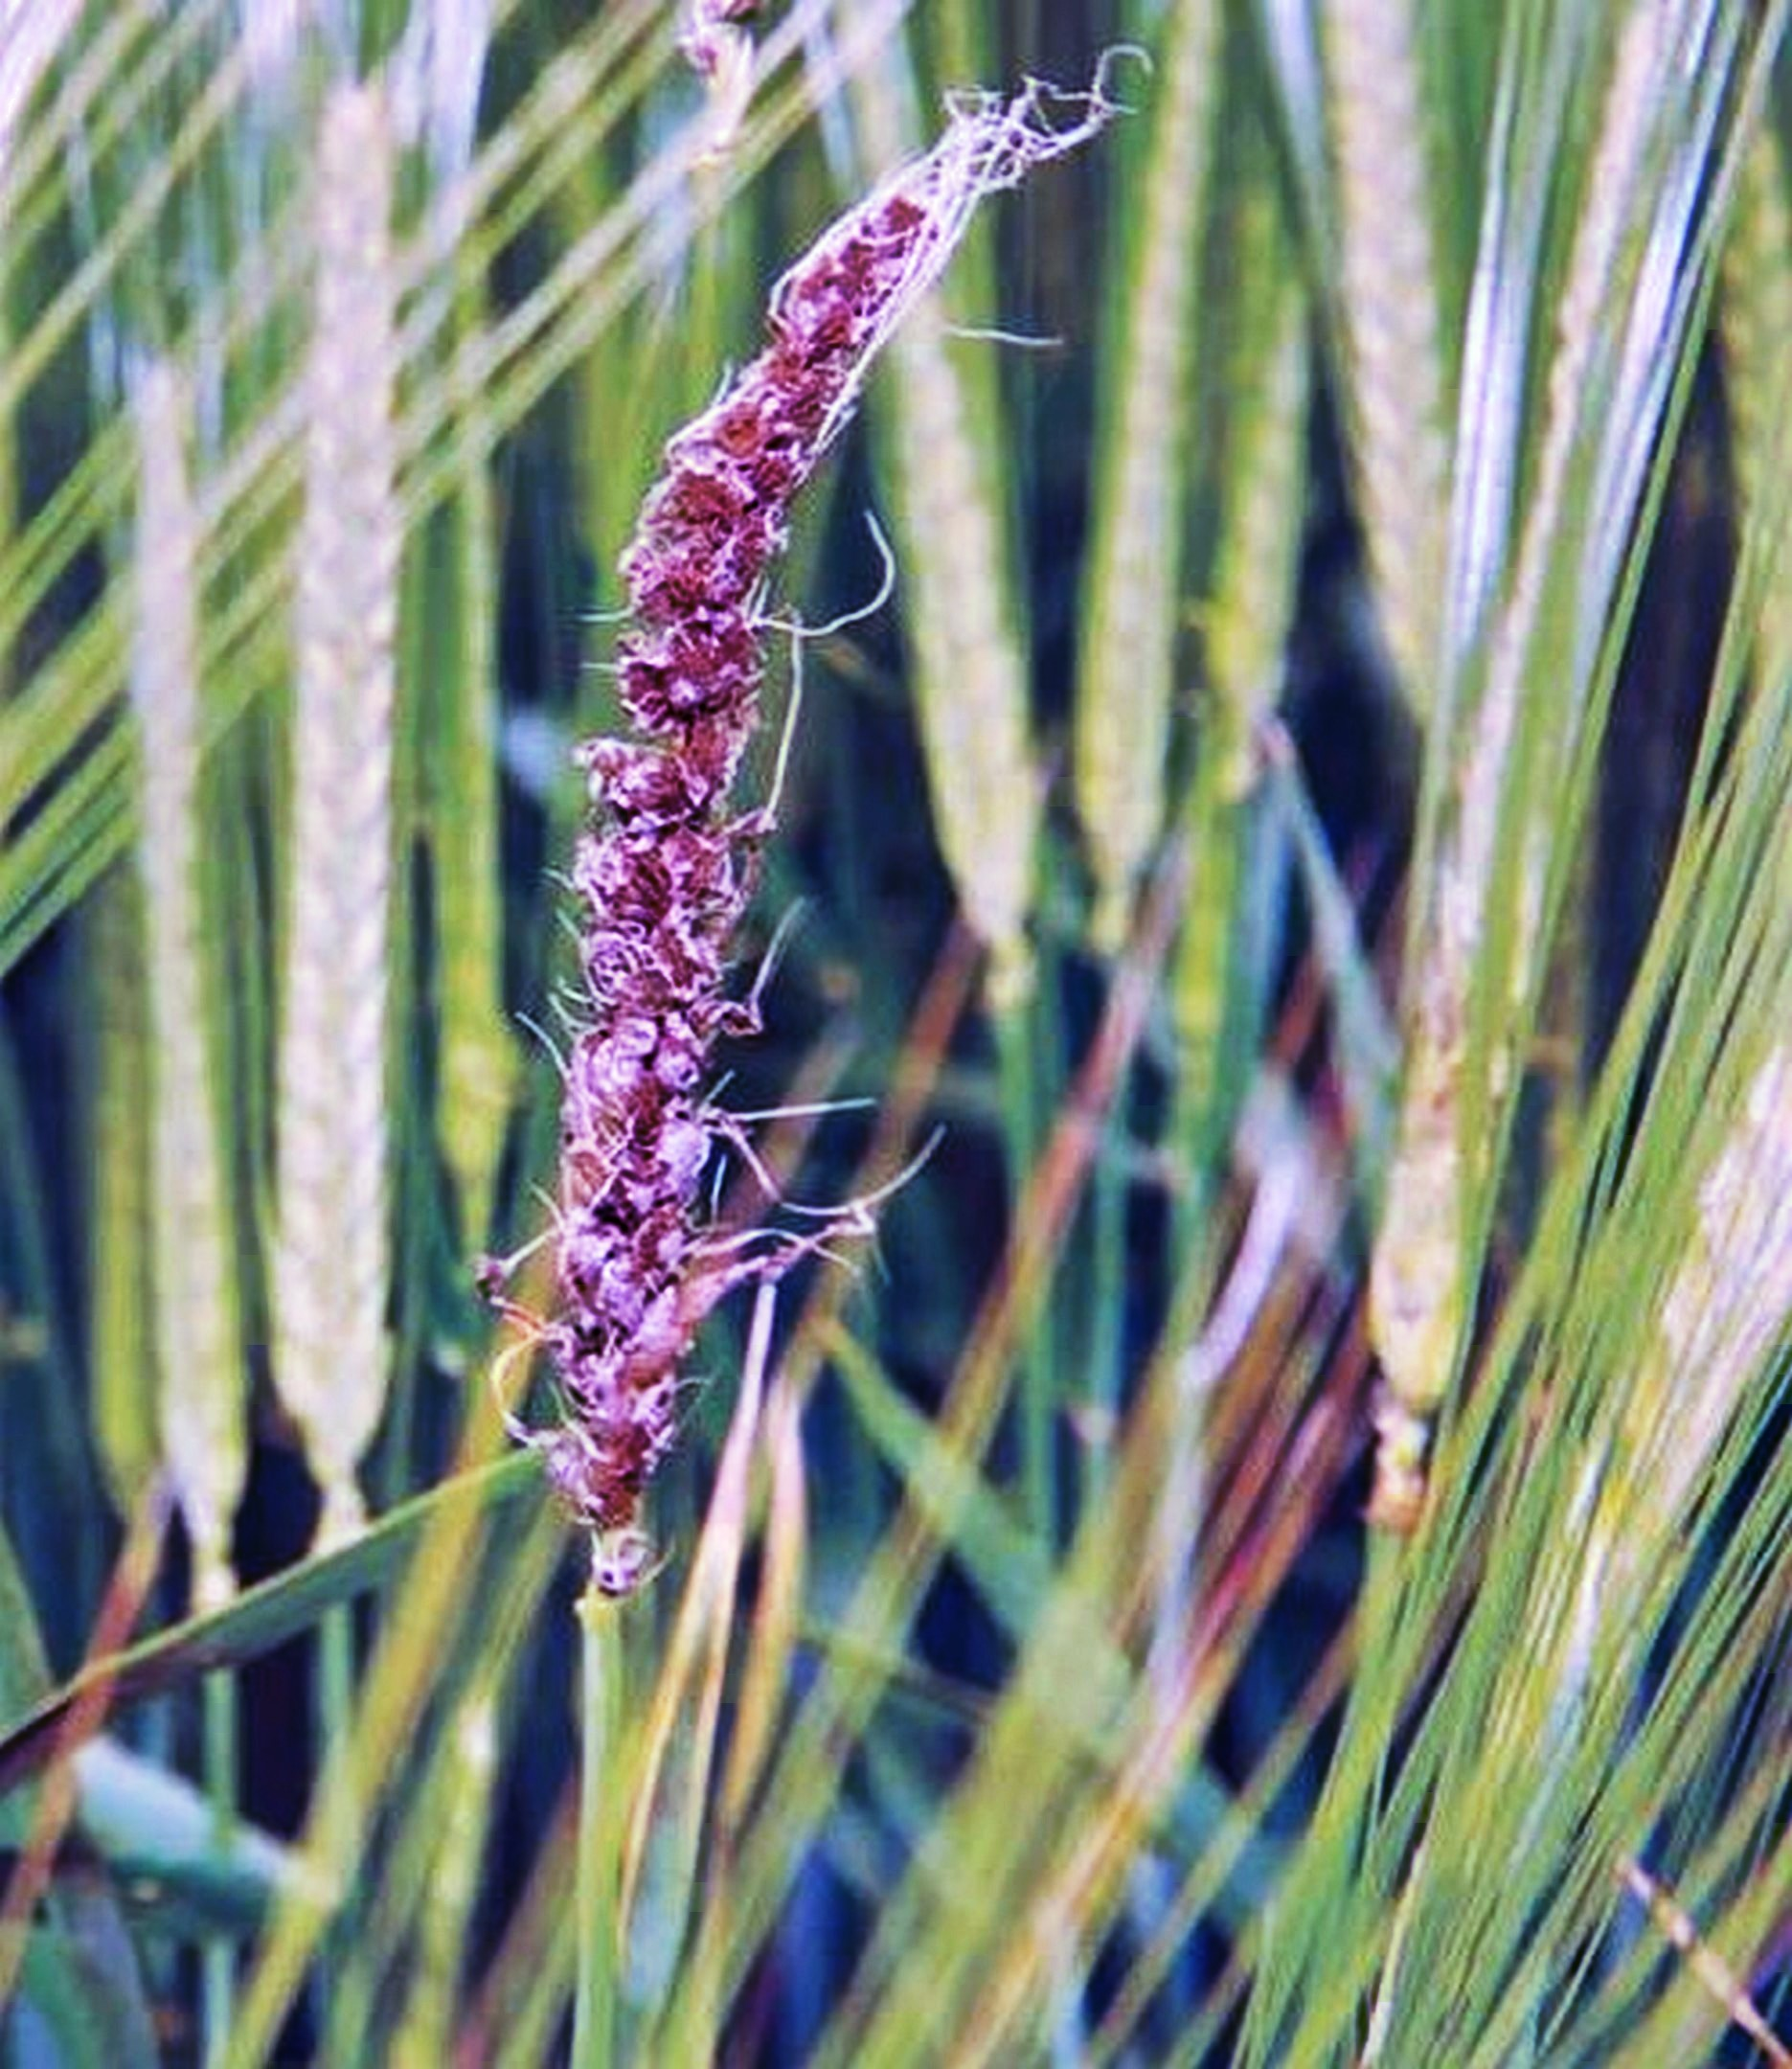Wheat Loose Smut: (471, 183, 962, 1531)
